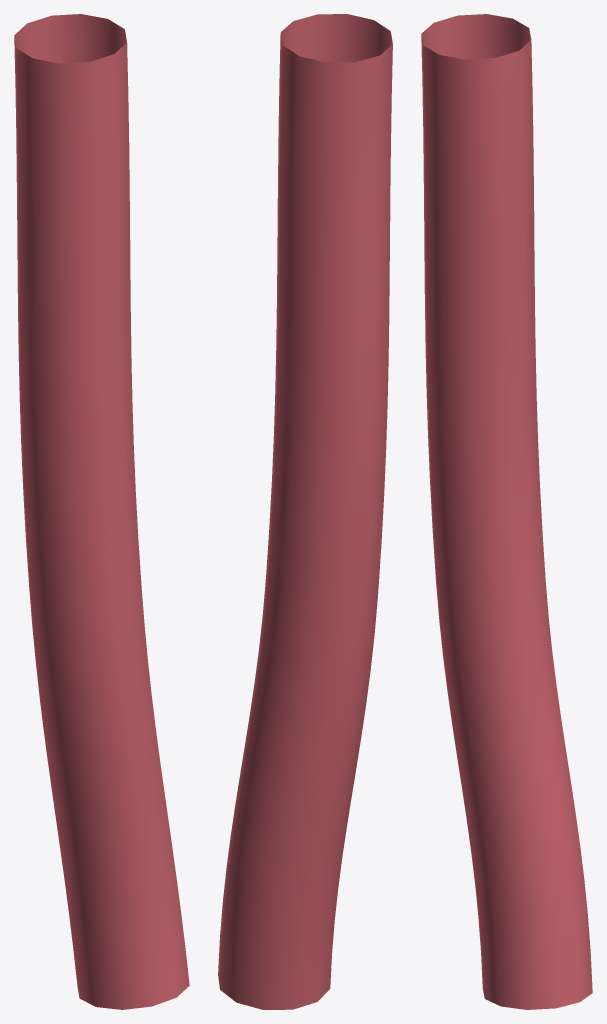
The picture shows the model from 3 angles, left to right: view 1: azimuth 30°, elevation 25°; view 2: azimuth 150°, elevation 25°; view 3: azimuth 330°, elevation 25°; orthographic projection. The views are drawn at different scales.
Visible parts, largest first — view 1: ZA_c795c8e360ee8e8a; view 2: ZA_c795c8e360ee8e8a; view 3: ZA_c795c8e360ee8e8a.
Part boxes in pixels (x1,y1,x2,y2): ZA_c795c8e360ee8e8a: (14, 14, 189, 1009); ZA_c795c8e360ee8e8a: (218, 14, 392, 1009); ZA_c795c8e360ee8e8a: (421, 14, 592, 1009).
Bounding box in the file's own units: 0.00887 × 0.0512 × 0.00565.
